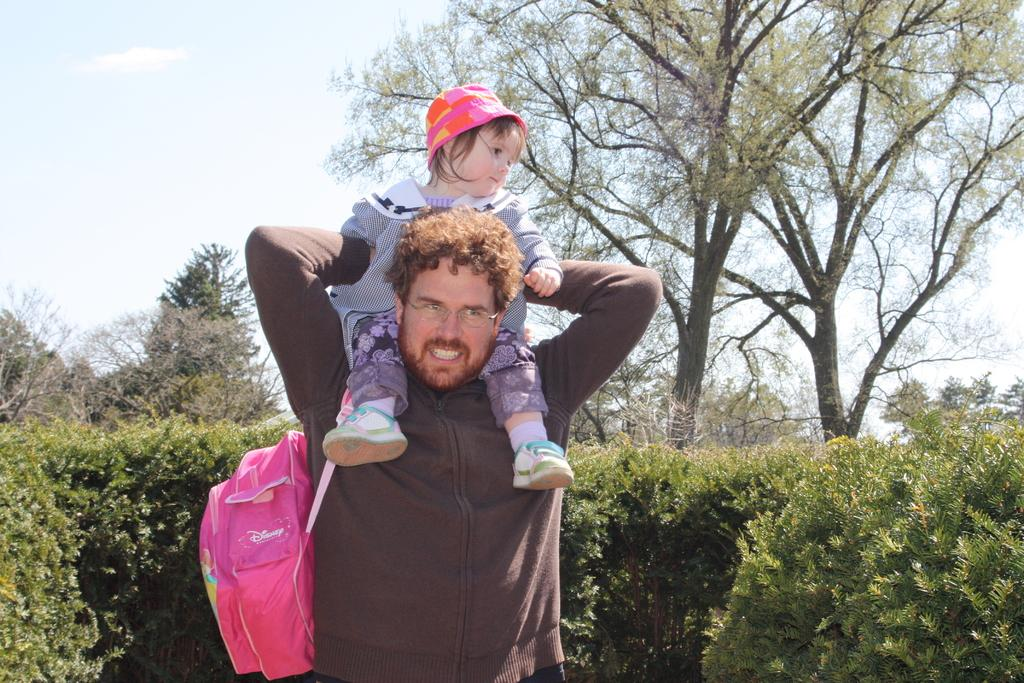Hat: (422, 79, 522, 164)
